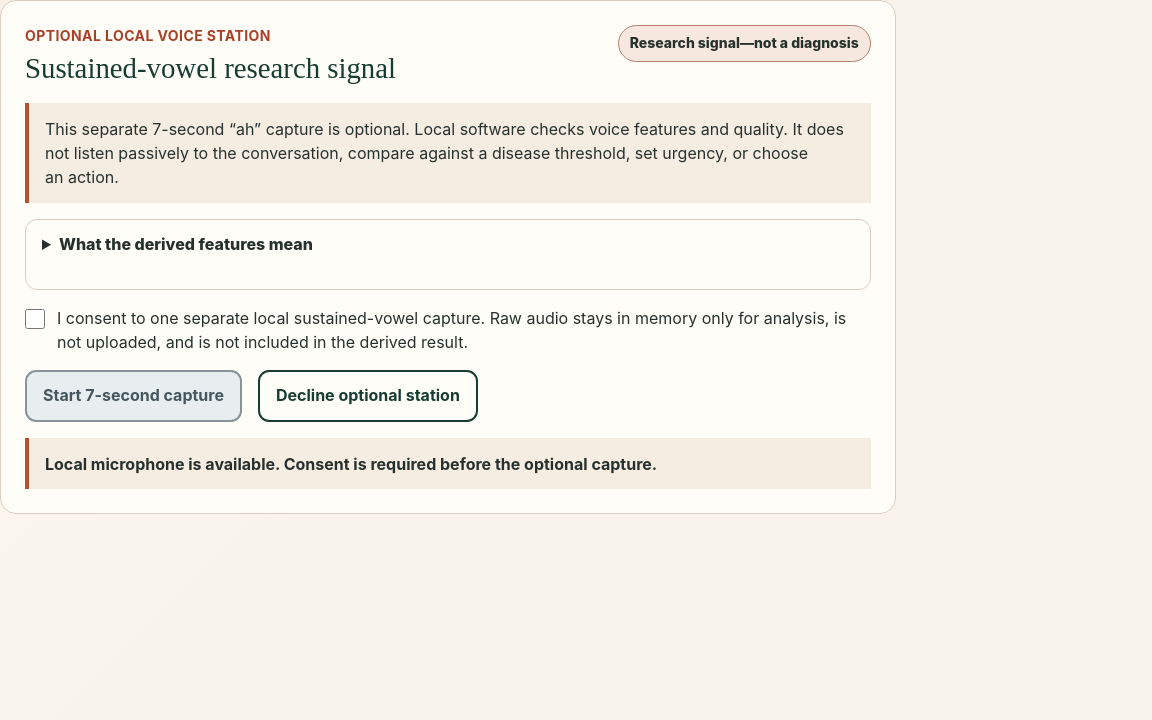
Test: voice biomarker station › exposes consent, research boundary, touch-sized controls, and a text-labelled passing result
Expected: the element "Sustained-vowel research signal" is shown, [0, 0, 896, 514]
Expected: the text "Research signal—not a diagnosis" is shown, [618, 25, 871, 62]
What coordinates should you click on to do the following:
click the checkbox labelled "I consent to one separate local sustained-vowel capture"
I would click on:
 (35, 318)
Its box is [25, 308, 45, 328].
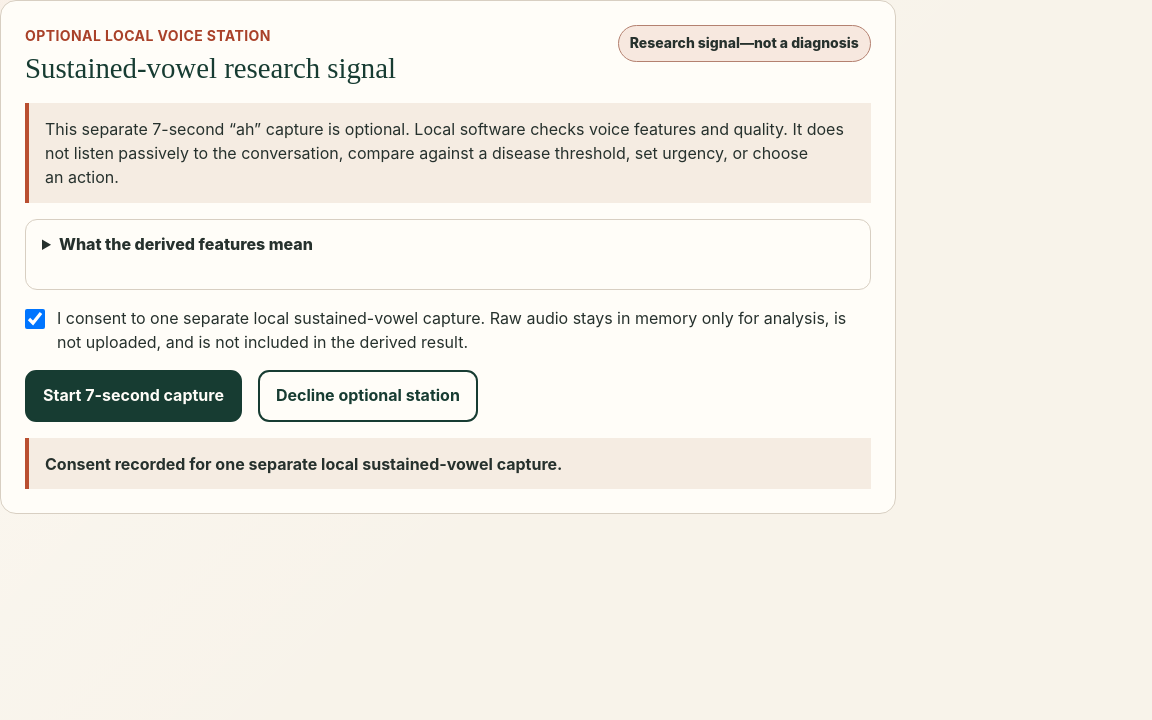
Result: the button "Start 7-second capture" is enabled
What coordinates should you click on to do the following:
click the button "Start 7-second capture"
I would click on:
 (134, 396)
Its box is [25, 370, 242, 422].
(page scrolled)
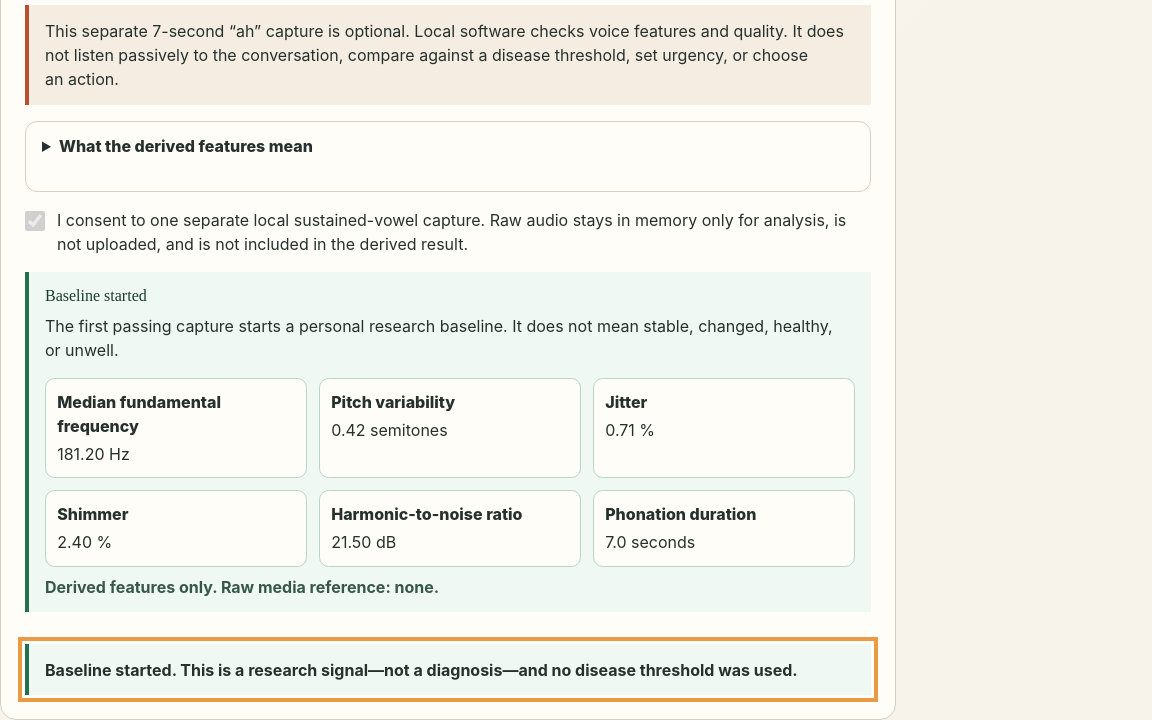
Result: the heading "Baseline started" is shown at [45, 287, 147, 304]
Result: the text "does not mean stable, changed, healthy, or unwell" is shown at [45, 316, 833, 360]
Result: the text "Derived features only. Raw media reference: none." is shown at [45, 576, 439, 596]
